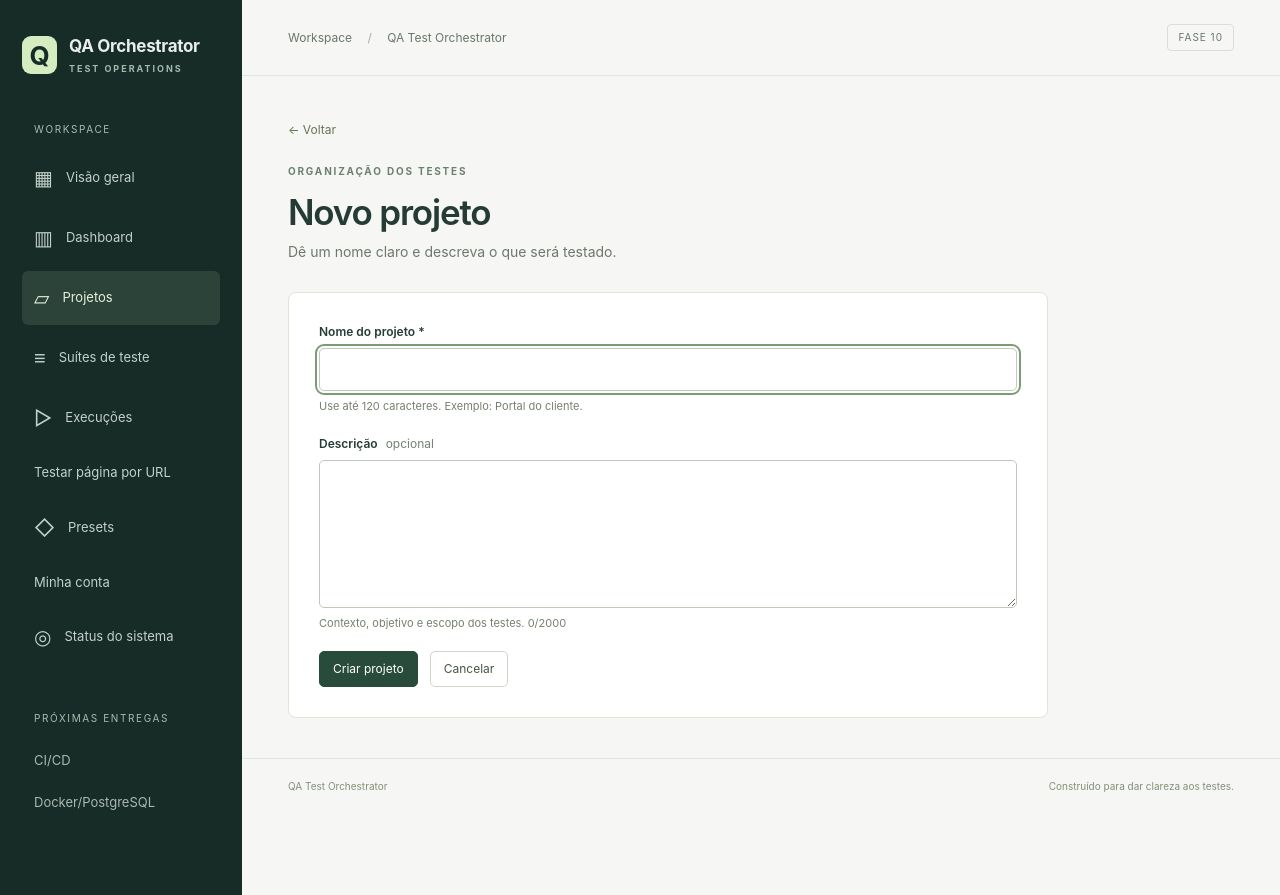
Scenario: Projetos › bloqueia envio sem nome
Click the button "Criar projeto": [368, 669] box left=319, top=651, right=418, bottom=687
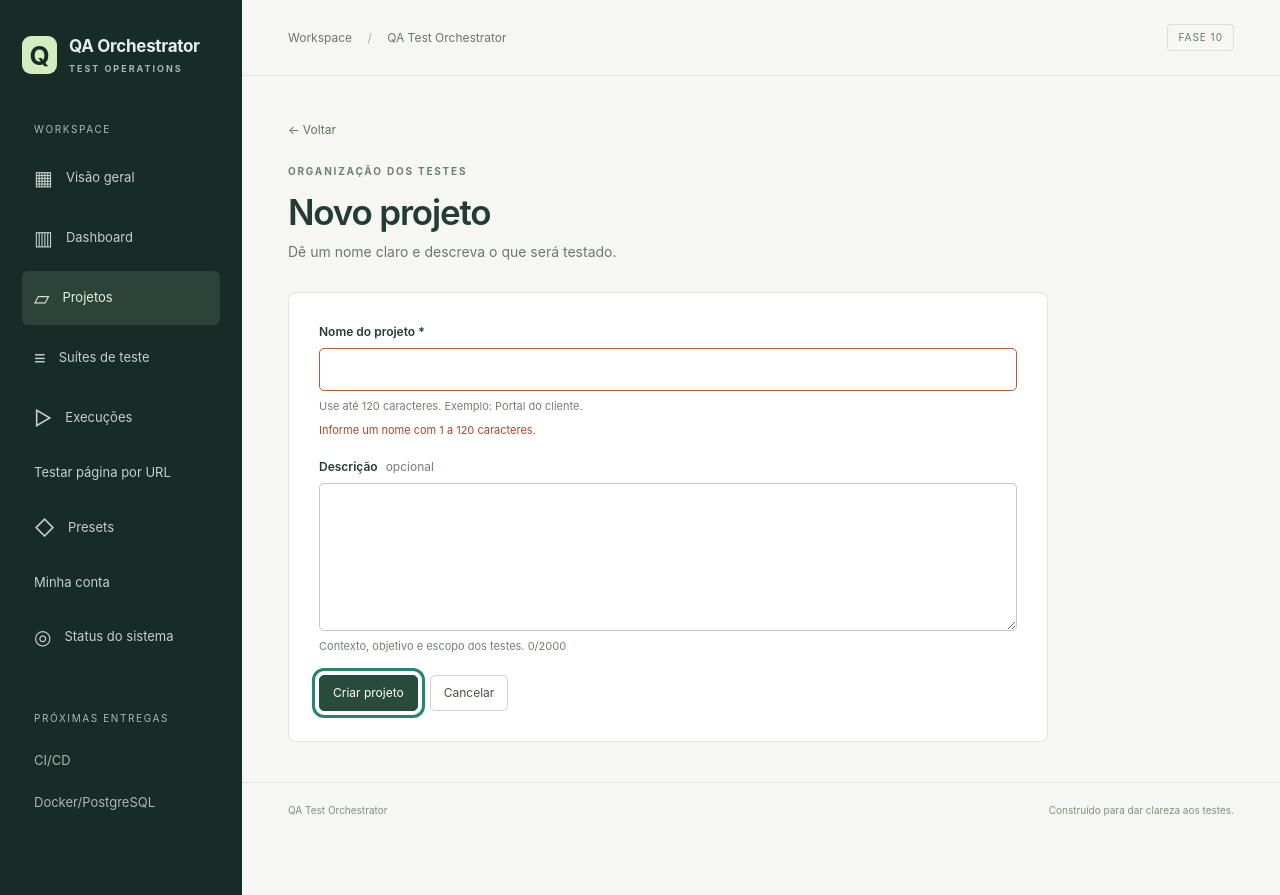
Expected: the text "Informe um nome com 1 a 120 caracteres." is shown, left=319, top=422, right=536, bottom=436
